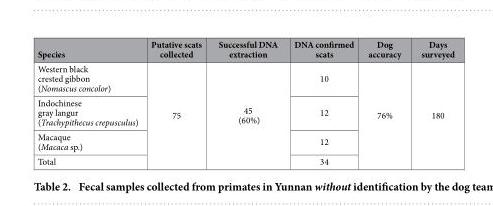table: (36, 37, 453, 166)
table column: (36, 37, 143, 166), (209, 37, 285, 166), (285, 37, 360, 166), (143, 37, 209, 166), (360, 37, 410, 166), (410, 37, 453, 166)
table column header: (36, 37, 453, 61)
table row: (36, 61, 453, 95), (36, 95, 453, 129), (36, 37, 453, 61), (36, 129, 453, 153), (36, 153, 453, 166)
table spanning cell: (209, 61, 285, 166), (143, 61, 209, 166), (360, 61, 410, 166), (410, 61, 453, 166)
